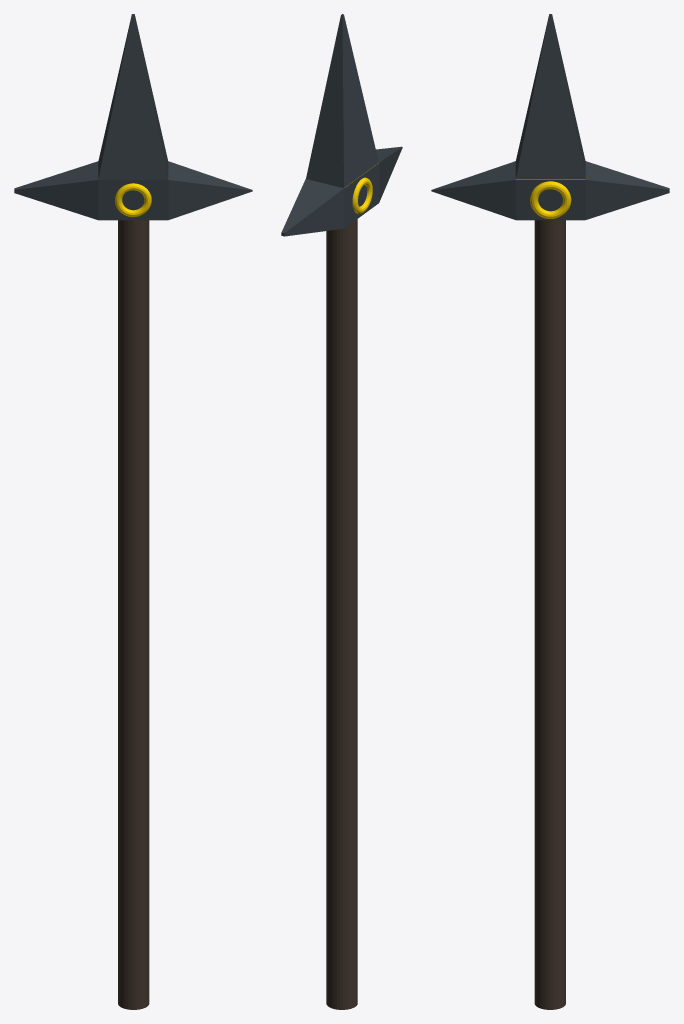
File: mizrak,.fbx
3 views of the same model, side by side, from view 1: azimuth 90°, elevation 25°; view 2: azimuth 150°, elevation 25°; view 3: azimuth 270°, elevation 25° (orthographic).
Visible parts, largest first — view 1: Cylinder; view 2: Cylinder; view 3: Cylinder.
Part boxes in pixels (x1=…): Cylinder: x1=14, y1=14, x2=252, y2=1009; Cylinder: x1=281, y1=14, x2=402, y2=1009; Cylinder: x1=431, y1=14, x2=669, y2=1009.
Bounding box in the file's own units: 172 × 3574 × 780.
